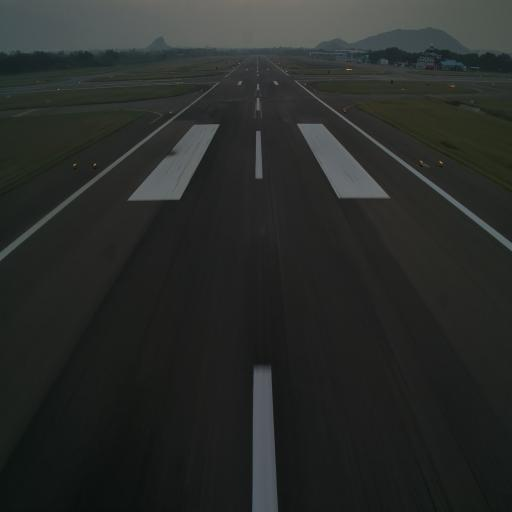on: (438, 158, 444, 169), (72, 161, 79, 170), (91, 160, 98, 168), (419, 158, 425, 166)
